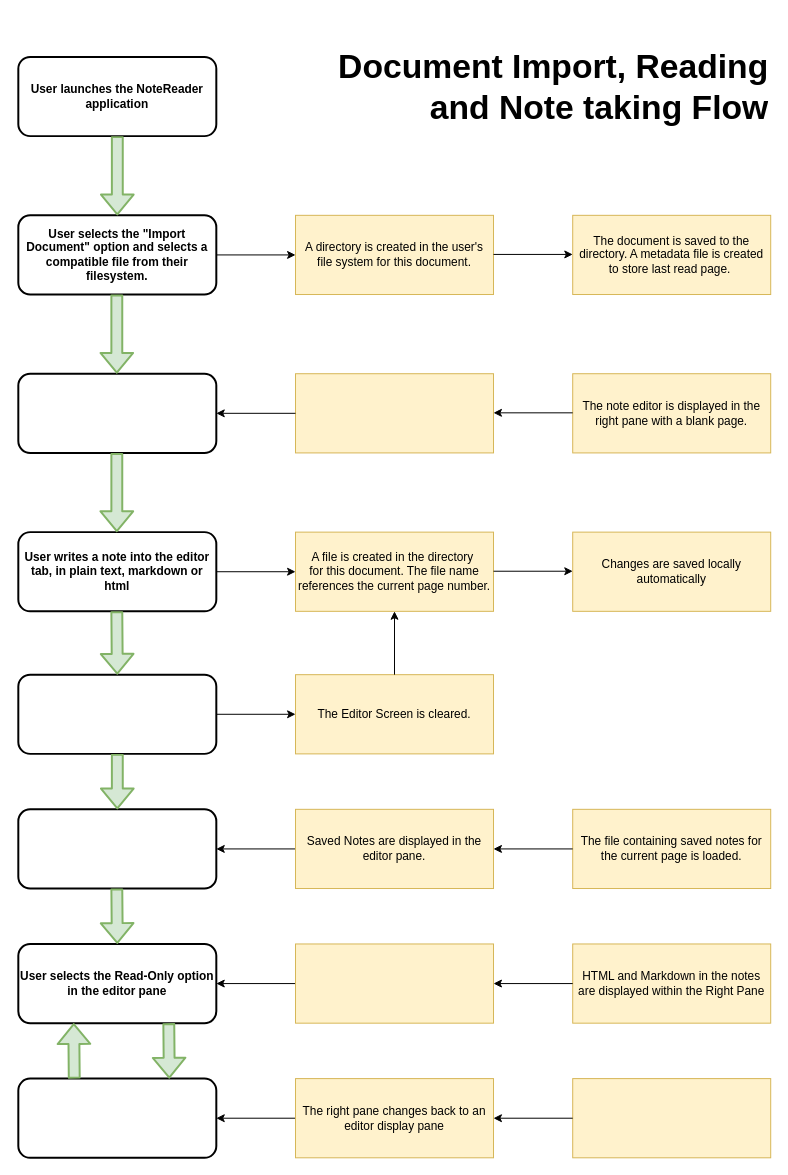
Image size: 788x1175. Some labels were removed from this diagram. The shapes that lost their labels are listed below. From the top down, each one's box as (x1, y1, x2, y2) in pixels, then its label:
(17, 372, 217, 453): A Two Pane window is opened.
(295, 373, 494, 453): The loaded document is rendered and displayed in the left pane.
(17, 673, 217, 754): User navigates to the next page of the document
(17, 808, 217, 889): User navigates back to a page they have already taken a note on
(295, 943, 494, 1023): The editor pane changes to a display pane
(17, 1077, 217, 1158): User Selects Editor option in the Read-Only Pane
(572, 1078, 771, 1158): Notes are editable, and are displayed in plain text
